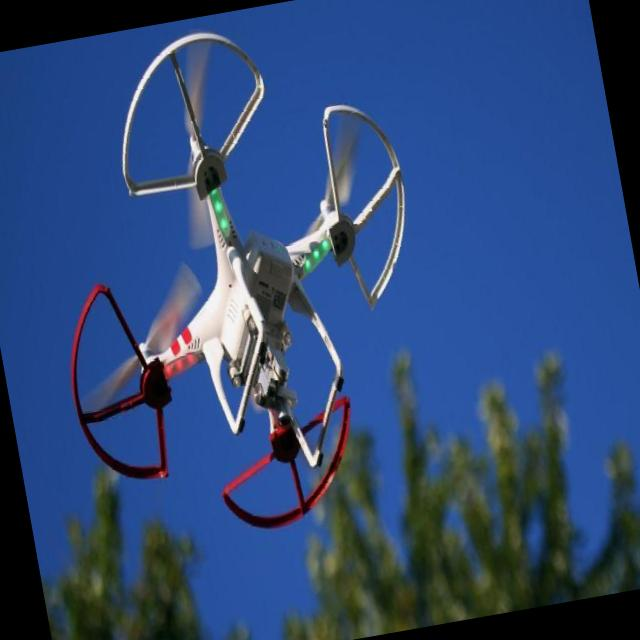drone: (12, 0, 460, 561)
